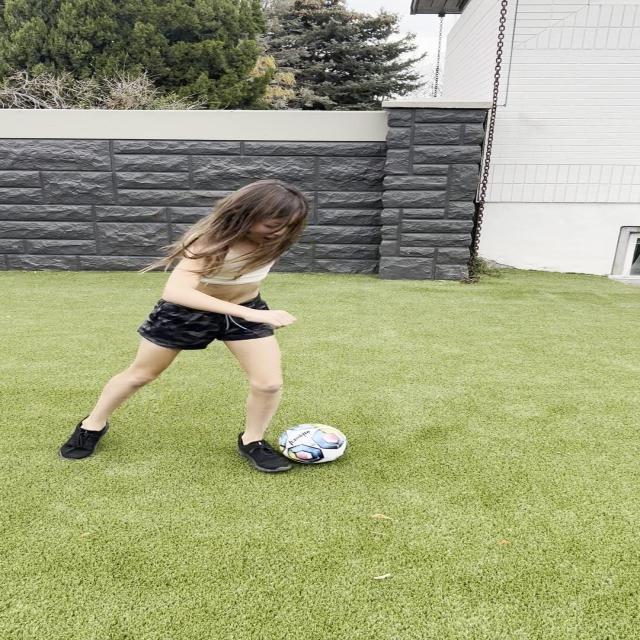Soccer Ball: (277, 423, 348, 464)
